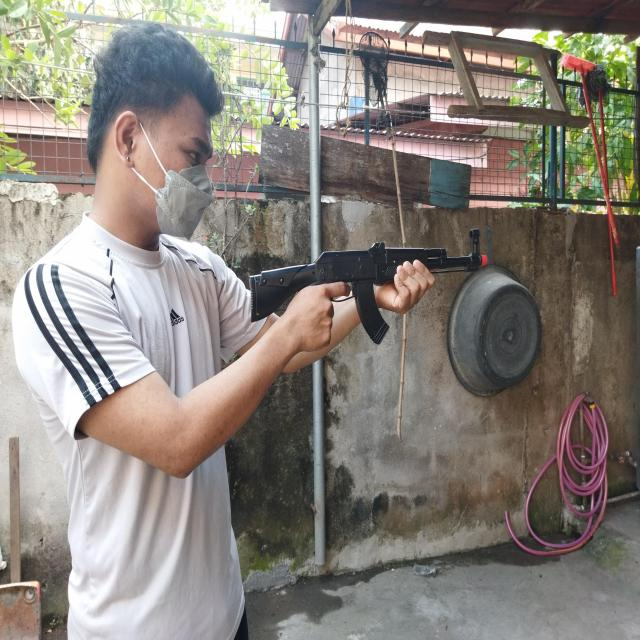rifle: (249, 229, 488, 344)
